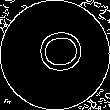O_W: (27, 30, 83, 80)
